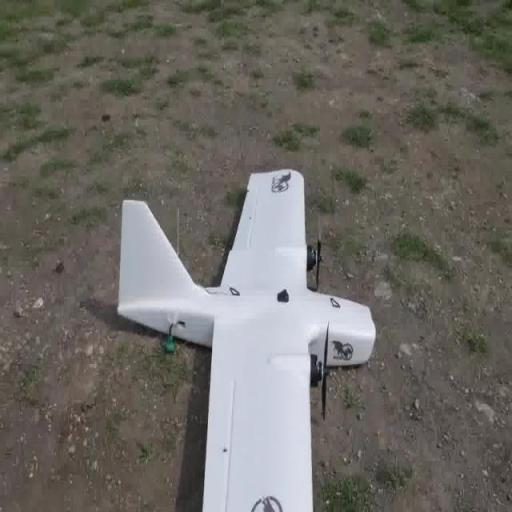uav: (116, 161, 380, 512)
